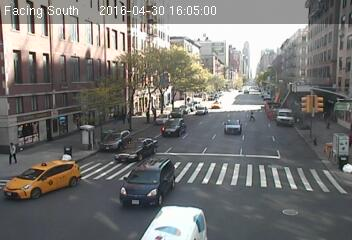neg: (51, 46, 87, 94), (148, 49, 179, 90), (46, 124, 74, 161), (295, 95, 321, 130), (196, 129, 222, 163), (12, 30, 37, 63), (279, 143, 299, 170), (171, 200, 191, 227), (318, 134, 337, 161), (227, 54, 246, 80), (101, 121, 120, 146), (298, 36, 316, 59), (280, 201, 297, 223), (113, 61, 129, 82), (121, 165, 137, 186)
pos: (7, 136, 30, 166), (247, 107, 259, 124)
